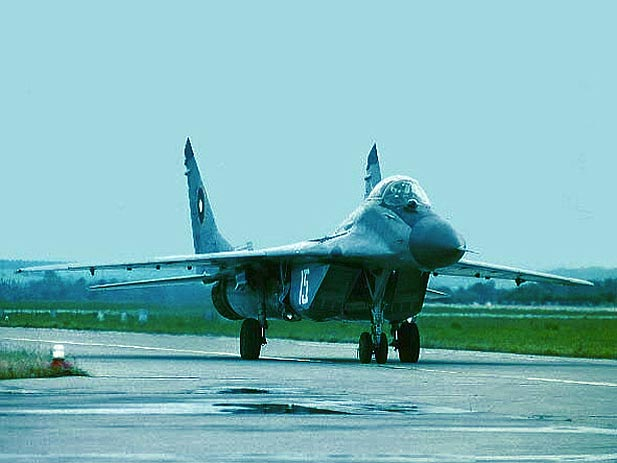Mig-29: (63, 111, 581, 372)
